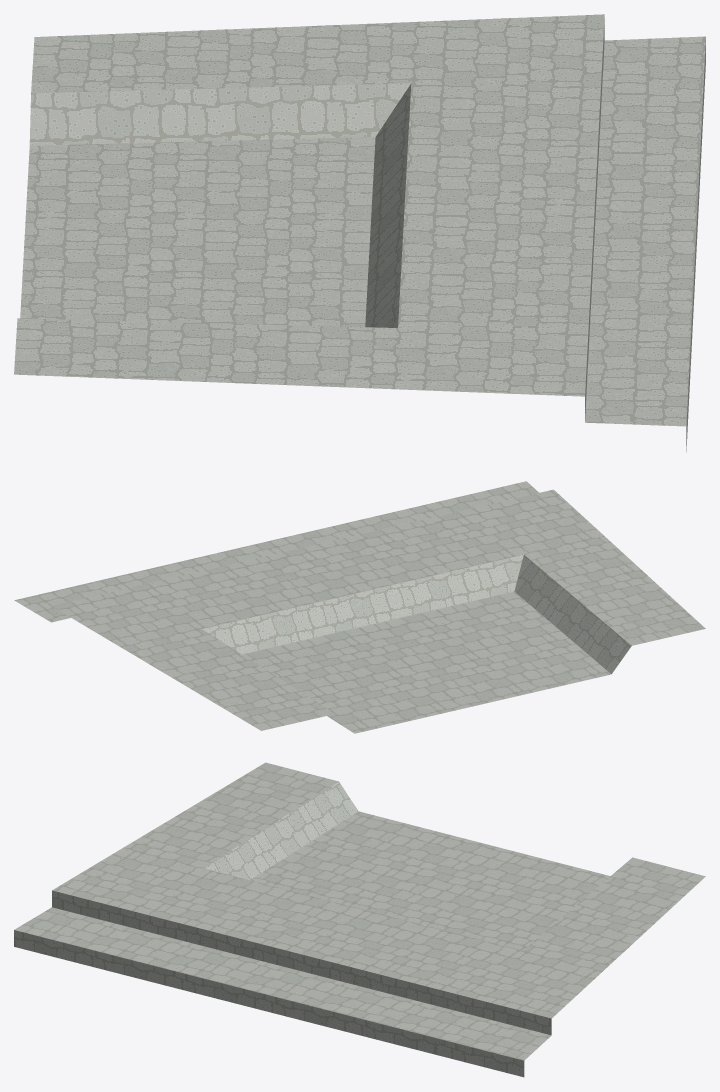
Rendered from kd_stage_1364a3_11_27_bounded.glb.
The picture shows the model from 3 angles, top to bottom: view 1: azimuth 30°, elevation 25°; view 2: azimuth 150°, elevation 25°; view 3: azimuth 270°, elevation 25°; orthographic projection. The views are drawn at different scales.
Parts seen in each view (by area): view 1: kd_stage_1364a3_11_27_bounded; view 2: kd_stage_1364a3_11_27_bounded; view 3: kd_stage_1364a3_11_27_bounded.
Part boxes in pixels (x1,y1,x2,y2): kd_stage_1364a3_11_27_bounded: [14, 14, 705, 451]; kd_stage_1364a3_11_27_bounded: [14, 481, 705, 733]; kd_stage_1364a3_11_27_bounded: [14, 762, 705, 1077].
Bounding box in the file's own units: 10.34 × 0.5762 × 10.74.
1 material, 1 textured.
